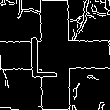L_N: (39, 30, 71, 80)
